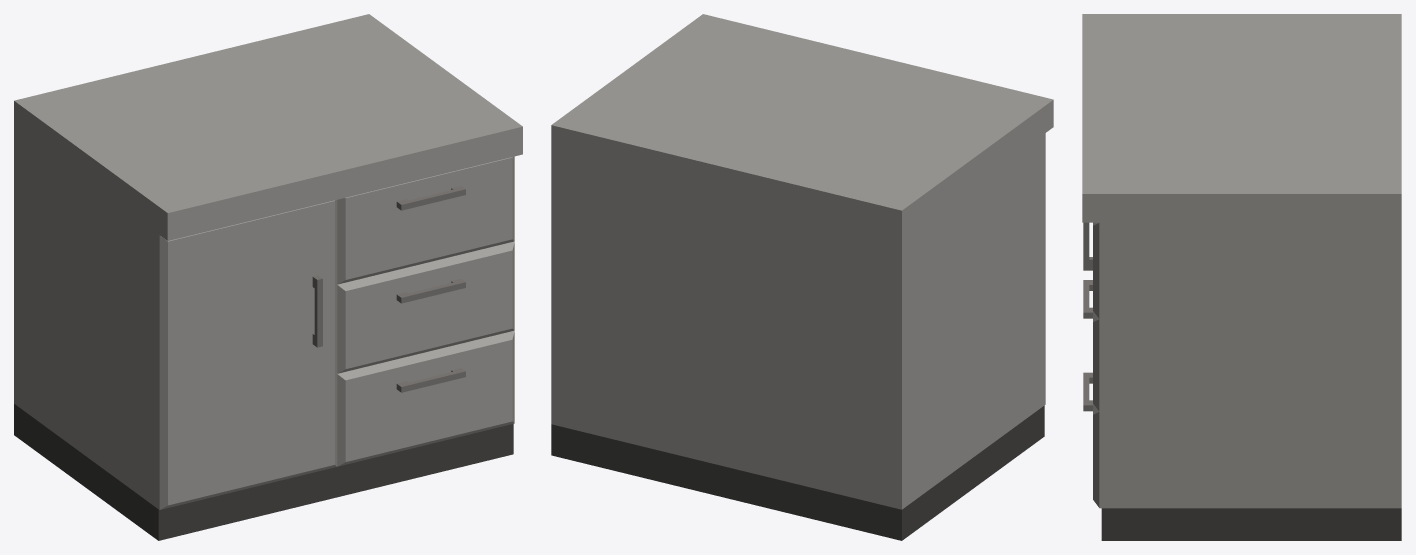
Rendered from SM_Props_Interior_House_Kitchen_Drawer_02.fbx.
The picture shows the model from 3 angles, left to right: view 1: azimuth 30°, elevation 25°; view 2: azimuth 150°, elevation 25°; view 3: azimuth 270°, elevation 25°; orthographic projection. The views are drawn at different scales.
Visible parts, largest first — view 1: SM_Props_Interior_House_Kitchen_Drawer_02; view 2: SM_Props_Interior_House_Kitchen_Drawer_02; view 3: SM_Props_Interior_House_Kitchen_Drawer_02.
Part boxes in pixels (bbox=[...]): SM_Props_Interior_House_Kitchen_Drawer_02: bbox=[14, 14, 522, 540]; SM_Props_Interior_House_Kitchen_Drawer_02: bbox=[551, 14, 1053, 540]; SM_Props_Interior_House_Kitchen_Drawer_02: bbox=[1082, 14, 1401, 540].
Bounding box in the file's own units: 100 × 90 × 75.
